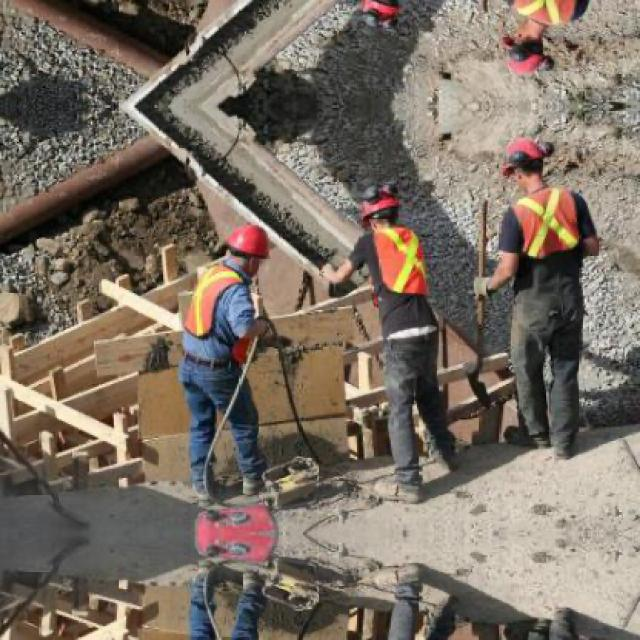con casco: (205, 203, 292, 318), (488, 120, 564, 214), (352, 182, 422, 253)
